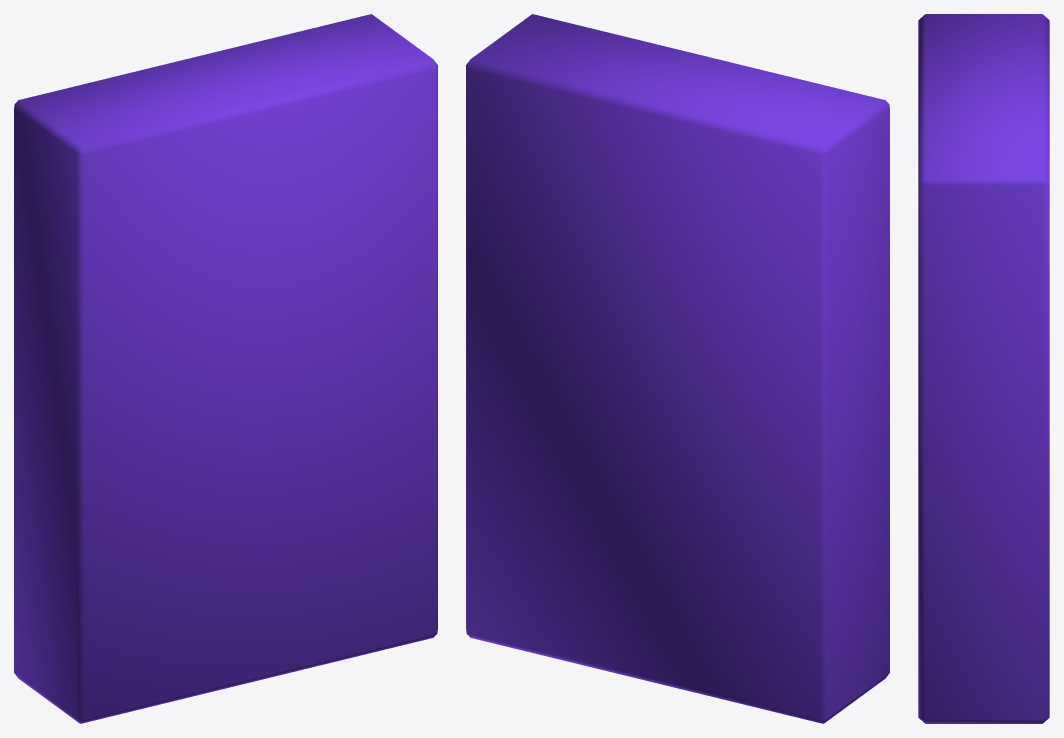
The model's file is long wall_purple.fbx.
The picture shows the model from 3 angles, left to right: view 1: azimuth 30°, elevation 25°; view 2: azimuth 150°, elevation 25°; view 3: azimuth 270°, elevation 25°; orthographic projection. The views are drawn at different scales.
Visible parts, largest first — view 1: long wall_purple; view 2: long wall_purple; view 3: long wall_purple.
Boxes of the visible parts, box(x1,y1,x2,y2) form: long wall_purple: box(14, 14, 437, 723); long wall_purple: box(466, 14, 889, 723); long wall_purple: box(918, 14, 1049, 723).
Size of the model in its own units: 0.3781 by 0.5777 by 0.1259.
